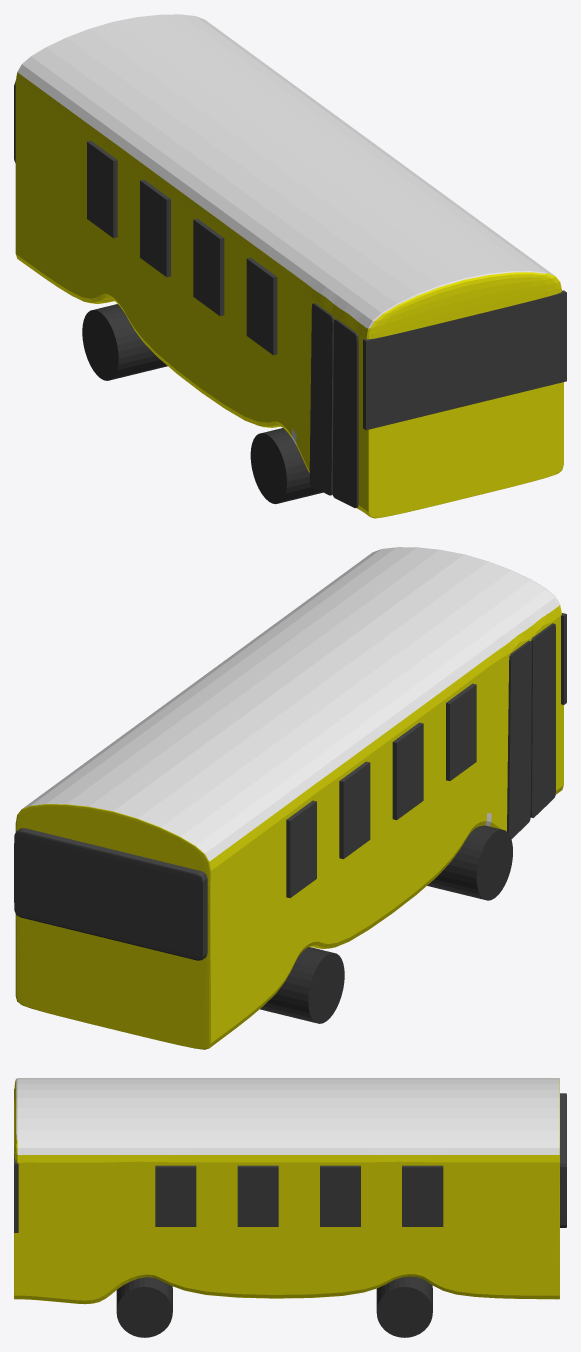
File: Bus.fbx
3 renders of one model, top to bottom at view 1: azimuth 30°, elevation 25°; view 2: azimuth 150°, elevation 25°; view 3: azimuth 270°, elevation 25°, orthographic. The views are drawn at different scales.
Visible parts, largest first — view 1: Cube, Cube.001, Cube.002, Cube.004, Cylinder, Cylinder.003; view 2: Cube, Cube.003, Cube.002, Cube.004, Cylinder, Cylinder.003; view 3: Cube, Cube.002, Cylinder.001, Cylinder.002, Cube.003, Cube.001.
Part boxes in pixels (bbox=[...]): Cube: bbox=[15, 14, 563, 518]; Cube.001: bbox=[363, 290, 566, 430]; Cube.002: bbox=[87, 140, 277, 355]; Cube.004: bbox=[309, 303, 358, 507]; Cylinder: bbox=[82, 304, 167, 380]; Cylinder.003: bbox=[250, 428, 323, 504]; Cube: bbox=[15, 547, 563, 1049]; Cube.003: bbox=[14, 828, 207, 960]; Cube.002: bbox=[286, 683, 476, 898]; Cube.004: bbox=[507, 623, 555, 839]; Cylinder: bbox=[260, 947, 344, 1023]; Cylinder.003: bbox=[427, 825, 512, 900]; Cube: bbox=[14, 1078, 559, 1304]; Cube.002: bbox=[155, 1165, 443, 1226]; Cylinder.001: bbox=[376, 1276, 432, 1337]; Cylinder.002: bbox=[116, 1277, 172, 1337]; Cube.003: bbox=[560, 1093, 566, 1227]; Cube.001: bbox=[14, 1088, 18, 1232].
Bounding box in the file's own units: 411 × 446 × 1132.
